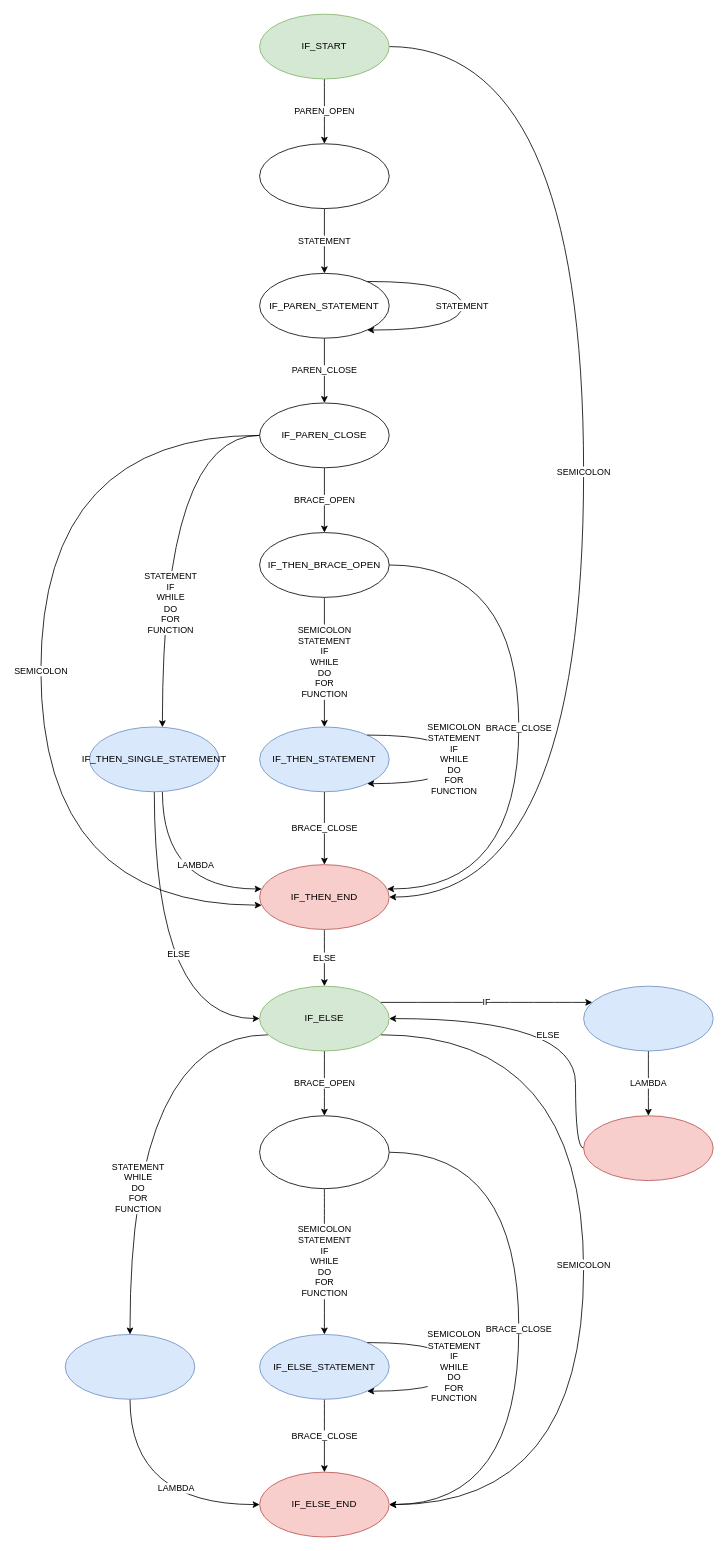
The diagram is 727 pixels wide and 1551 high, and some of its shapes have lost their labels. The shapes that lost their labels are listed below. From the top down, each one's box as (x1, y1, x2, y2) in pixels, then its label:
(259, 143, 389, 209): IF_PAREN_OPEN
(583, 985, 713, 1051): ELSE_IF_STATEMENT
(259, 1115, 389, 1189): IF_ELSE_BRACE_OPEN
(583, 1115, 713, 1181): ELSE_IF_END
(64, 1334, 195, 1399): IF_ELSE_SINGLE_STATEMENT
